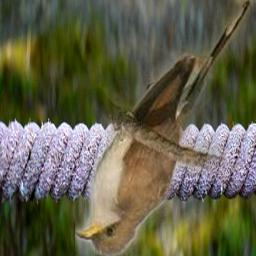Cuckoo: (75, 0, 250, 256)
